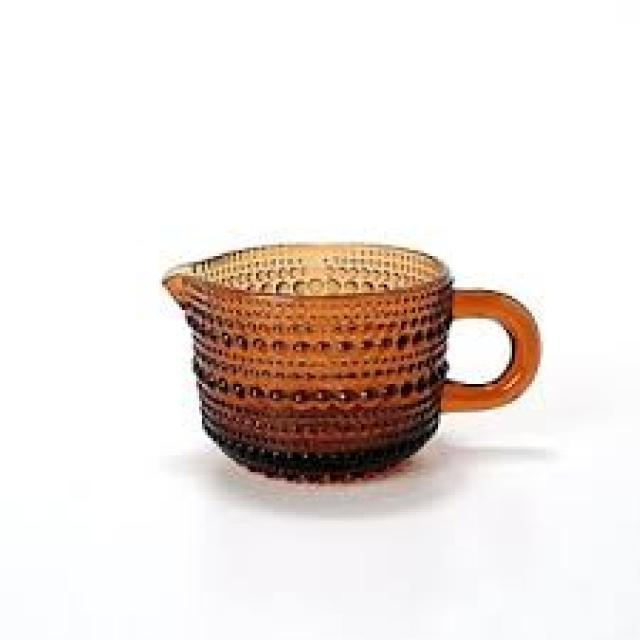Glass: (158, 240, 543, 486)
